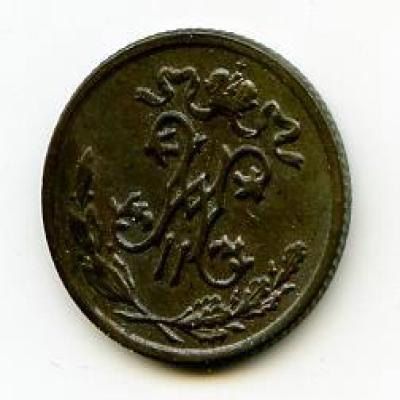numismatics: (43, 31, 348, 365)
